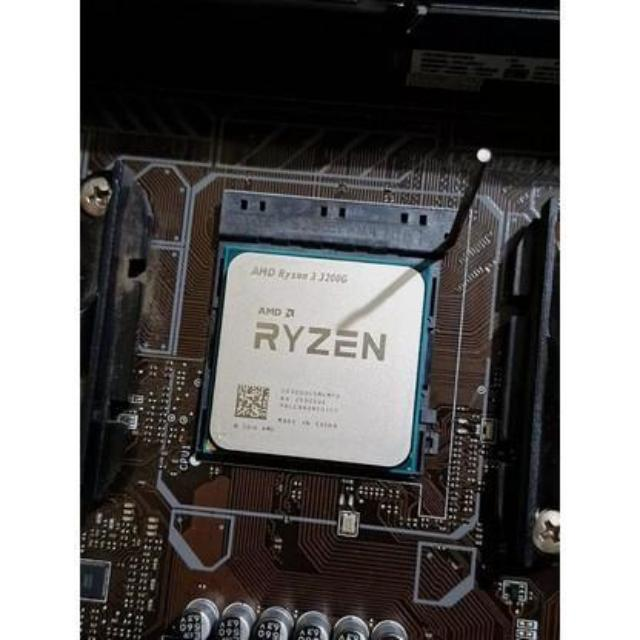CPU: (208, 244, 424, 473)
